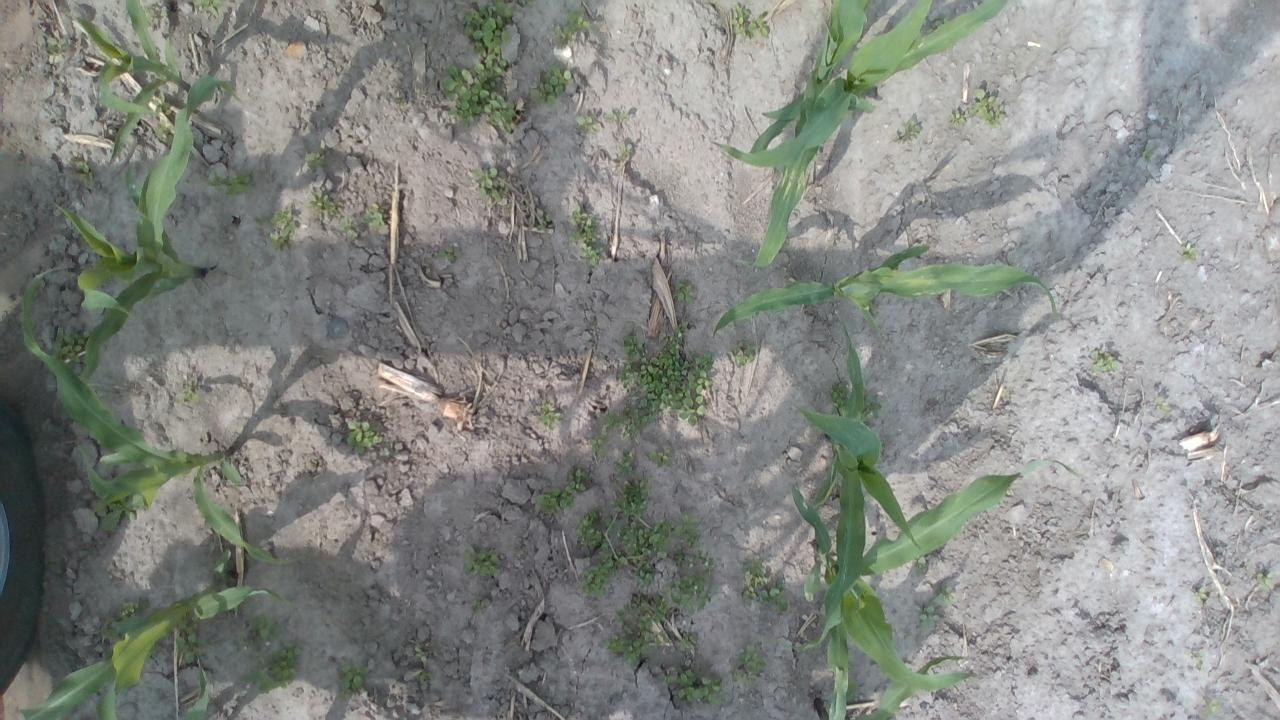Maize: (709, 0, 1010, 270), (19, 263, 284, 566), (790, 459, 1083, 720), (52, 76, 242, 384), (776, 317, 928, 652), (18, 550, 290, 720), (712, 242, 1058, 338), (75, 0, 200, 165), (746, 0, 868, 168), (811, 654, 985, 720), (173, 662, 216, 720)
Weeds: (576, 479, 714, 606), (618, 321, 714, 436), (460, 0, 520, 132), (606, 594, 696, 667), (245, 640, 299, 694), (740, 558, 790, 616), (660, 666, 724, 708), (535, 468, 588, 516), (950, 88, 1006, 129), (832, 382, 882, 424), (100, 488, 146, 532), (570, 206, 604, 264), (442, 65, 474, 122), (529, 64, 573, 103), (728, 2, 771, 39), (175, 617, 208, 665), (265, 206, 299, 249), (343, 420, 382, 455), (58, 329, 94, 364), (462, 547, 500, 580), (205, 171, 251, 198), (152, 90, 175, 144), (471, 167, 504, 202), (337, 663, 370, 697), (734, 642, 764, 678), (554, 12, 589, 42), (248, 614, 285, 642), (308, 188, 338, 220), (1090, 346, 1122, 374), (414, 645, 436, 685), (914, 602, 942, 632), (536, 402, 563, 431), (731, 340, 760, 367), (894, 118, 921, 144), (142, 1, 170, 26), (937, 584, 959, 609), (303, 149, 327, 171), (192, 0, 222, 17), (615, 450, 637, 473), (361, 208, 385, 229), (590, 434, 610, 459), (574, 114, 600, 133), (76, 160, 95, 186), (182, 377, 200, 404), (674, 282, 696, 304), (1255, 568, 1274, 592), (648, 449, 672, 468), (1152, 395, 1174, 415), (437, 247, 463, 263), (1180, 240, 1198, 262), (44, 36, 66, 54), (912, 552, 929, 574), (605, 108, 631, 122), (605, 412, 621, 434), (120, 600, 142, 616), (536, 214, 554, 232), (618, 141, 633, 162), (1194, 584, 1208, 603), (1142, 145, 1156, 163), (472, 599, 487, 614), (392, 94, 403, 106)
